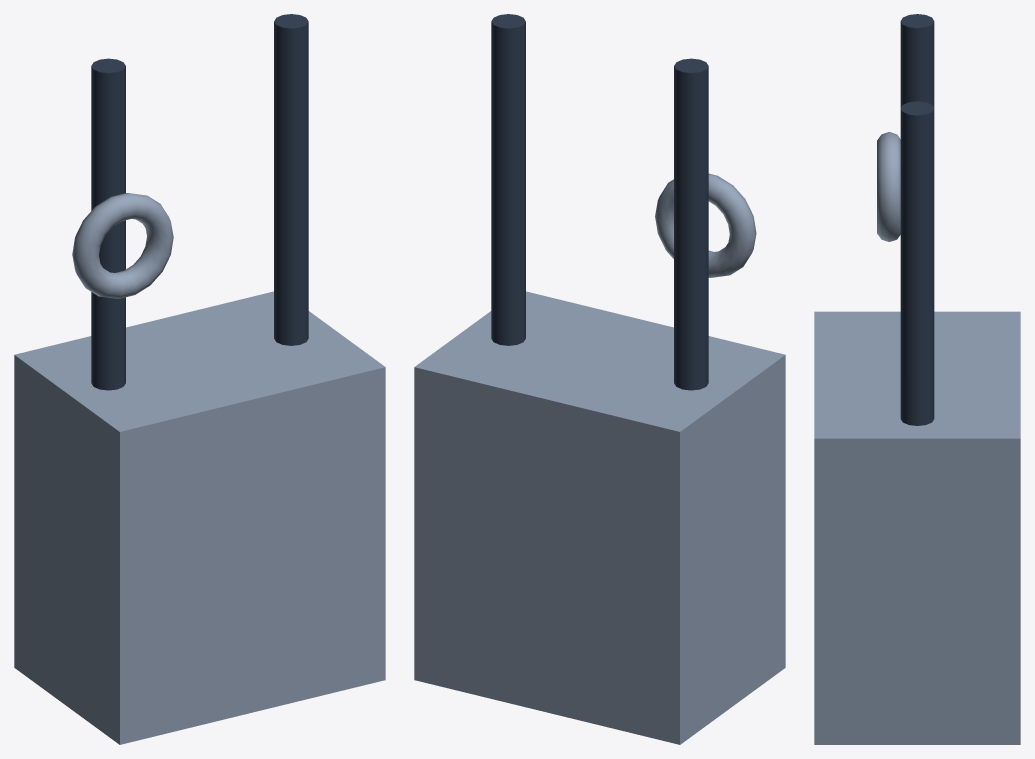
The model's file is utility-gas-meter.glb.
The picture shows the model from 3 angles, left to right: view 1: azimuth 30°, elevation 25°; view 2: azimuth 150°, elevation 25°; view 3: azimuth 270°, elevation 25°; orthographic projection. The views are drawn at different scales.
Visible parts, largest first — view 1: plumbing-equipment-gas-meter; view 2: plumbing-equipment-gas-meter; view 3: plumbing-equipment-gas-meter.
Boxes of the visible parts, x1,y1,x2,y2 form: plumbing-equipment-gas-meter: (14, 14, 385, 744); plumbing-equipment-gas-meter: (414, 14, 785, 744); plumbing-equipment-gas-meter: (814, 14, 1020, 744).
Bounding box in the file's own units: 0.329 × 0.725 × 0.22.
